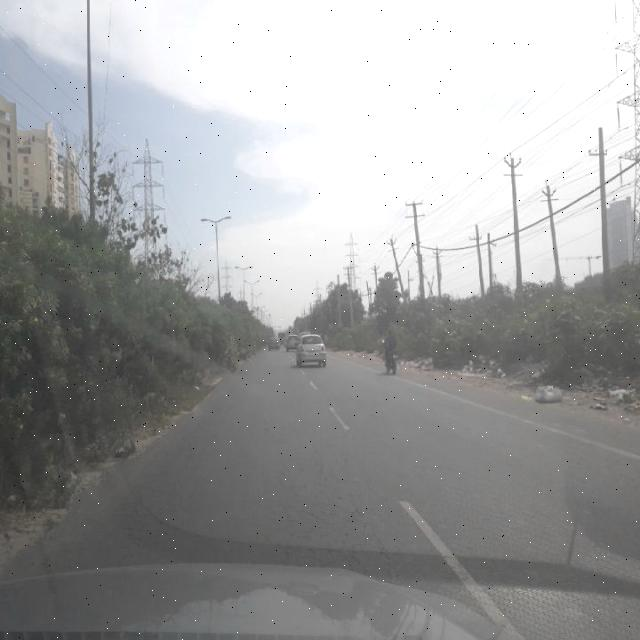D20: (70, 390, 428, 572)
